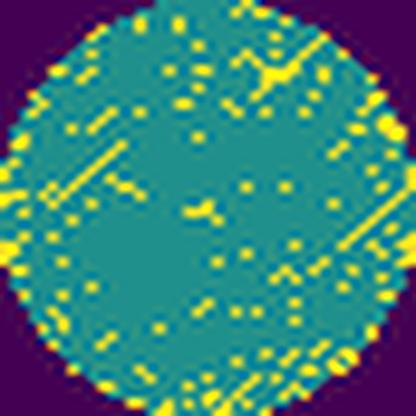Scratch: (41, 134, 133, 214), (331, 178, 416, 255)
